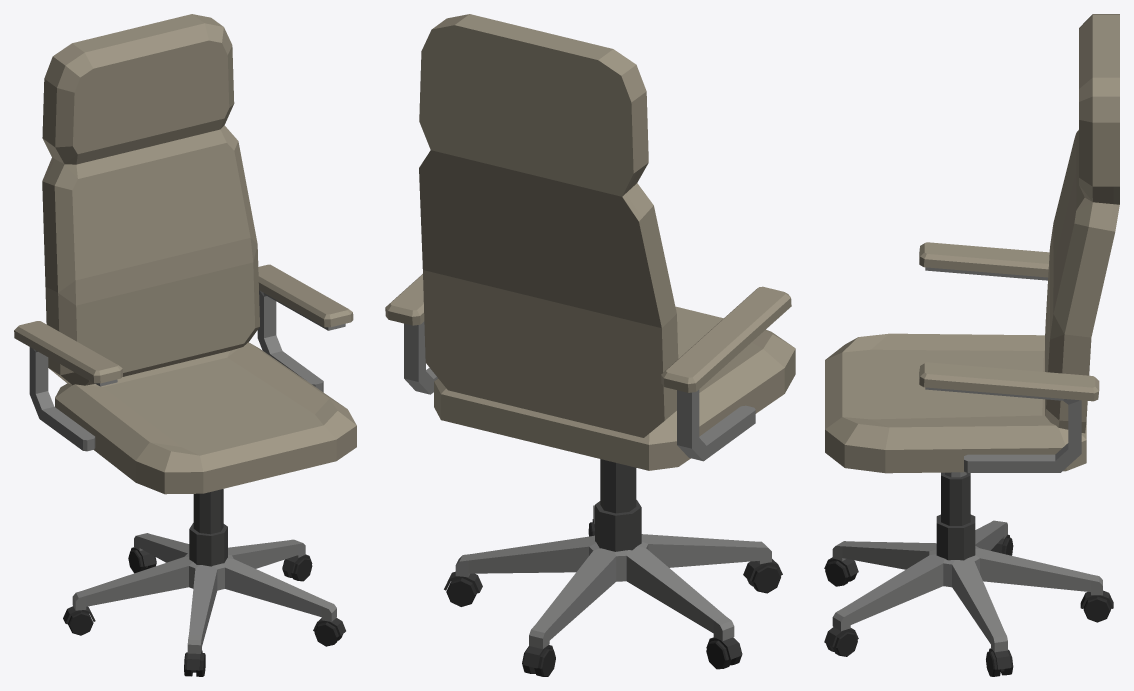
Rendered from SM_Props_Interior_Generic_Office_Chair_05.fbx.
3 renders of one model, left to right at view 1: azimuth 30°, elevation 25°; view 2: azimuth 150°, elevation 25°; view 3: azimuth 270°, elevation 25°, orthographic. The views are drawn at different scales.
Visible parts, largest first — view 1: SM_Props_Interior_Generic_Office_Chair_05_Seat, SM_Props_Interior_Generic_Office_Chair_05; view 2: SM_Props_Interior_Generic_Office_Chair_05_Seat, SM_Props_Interior_Generic_Office_Chair_05; view 3: SM_Props_Interior_Generic_Office_Chair_05_Seat, SM_Props_Interior_Generic_Office_Chair_05.
Part boxes in pixels (x1,y1,x2,y2): SM_Props_Interior_Generic_Office_Chair_05_Seat: (14,14,356,494); SM_Props_Interior_Generic_Office_Chair_05: (63,489,345,676); SM_Props_Interior_Generic_Office_Chair_05_Seat: (385,14,795,470); SM_Props_Interior_Generic_Office_Chair_05: (444,459,782,676); SM_Props_Interior_Generic_Office_Chair_05_Seat: (825,14,1119,473); SM_Props_Interior_Generic_Office_Chair_05: (824,472,1113,676).
Size of the model in its own units: 61.12 by 121 by 56.5.
